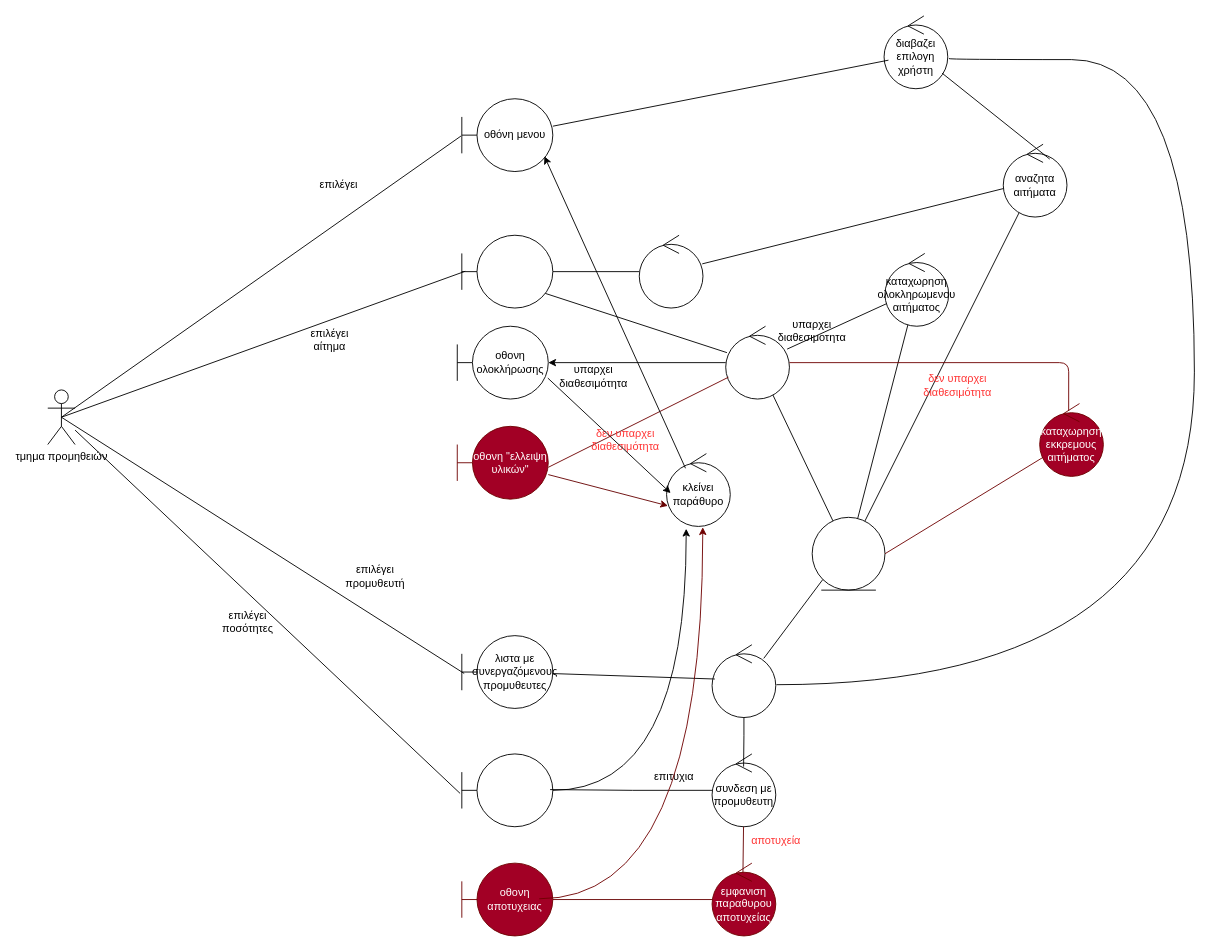
The diagram is 1210 pixels wide and 952 high, and some of its shapes have lost their labels. The centre of each missing label's shape, as x and y in pixels:
αναζητα συνεργαζόμενους προμηθευτές: the point at 743,681
Βάση Δεδομένων: the point at 848,553
ελεγχει διαθεσιμότητα: the point at 757,362
εμφανίζει αιτηματα: the point at 670,271
οθονη αιτηματων προμηθειών: the point at 507,271
παράθυρο για παραγγελεία πρώτων υλών: the point at 507,790
